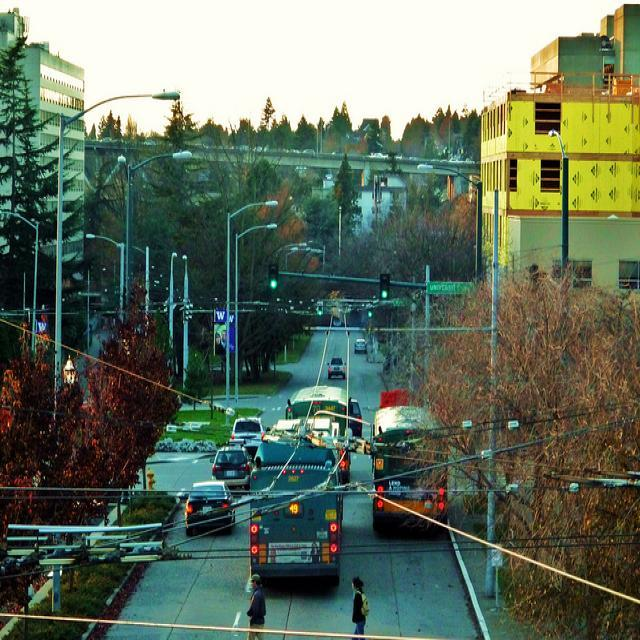fire_hydrant: (145, 466, 156, 488)
